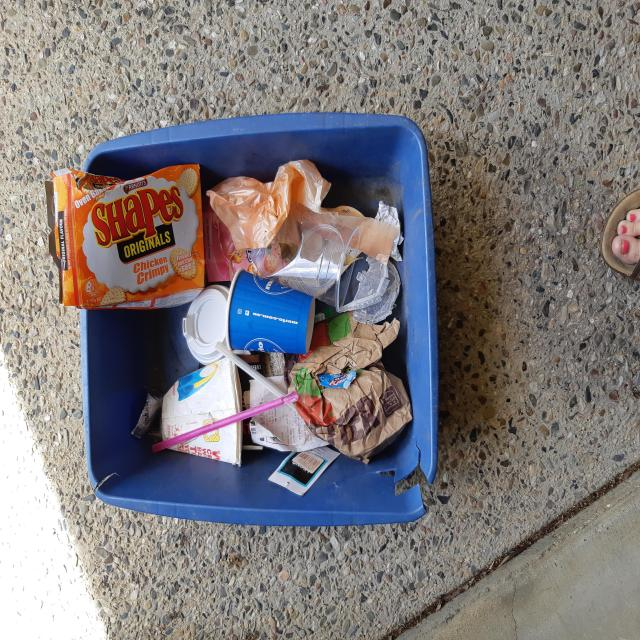litter: (45, 164, 205, 309)
